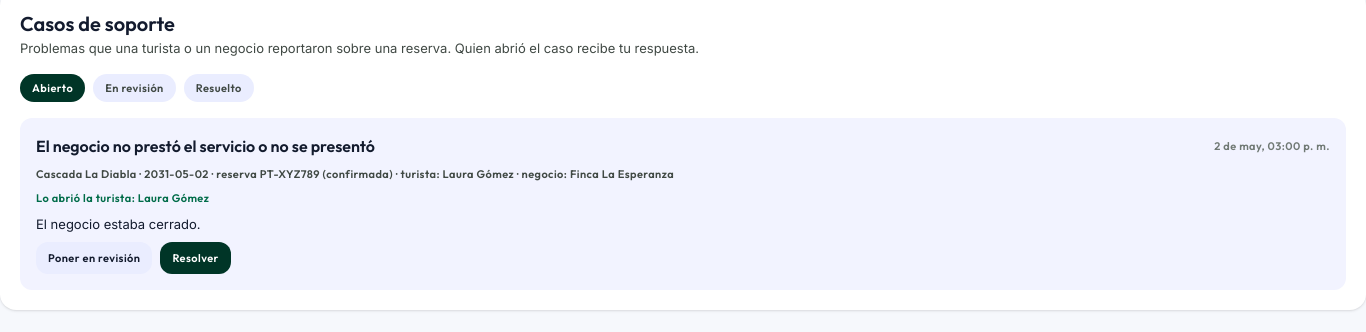
CasosAdmin › cambia de estado con los filtros y un caso resuelto ya no tiene acciones
This screenshot has width=1366, height=332.
Expected: the text "El negocio estaba cerrado." is shown, [36,216,201,232]
Click the button "Resuelto" at x=219, y=88, box [184,74,254,102]
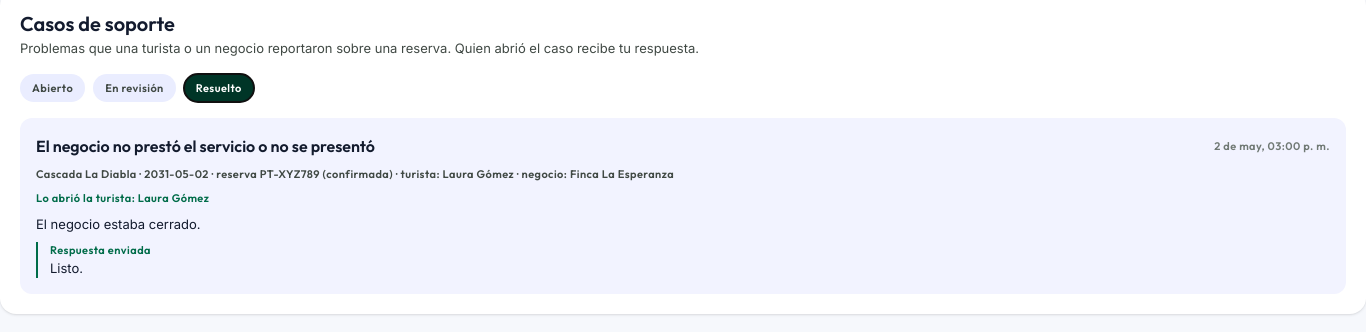
Expected: the text "Respuesta enviada" is shown, [50,243,151,257]
Expected: the button "Resolver" is gone
